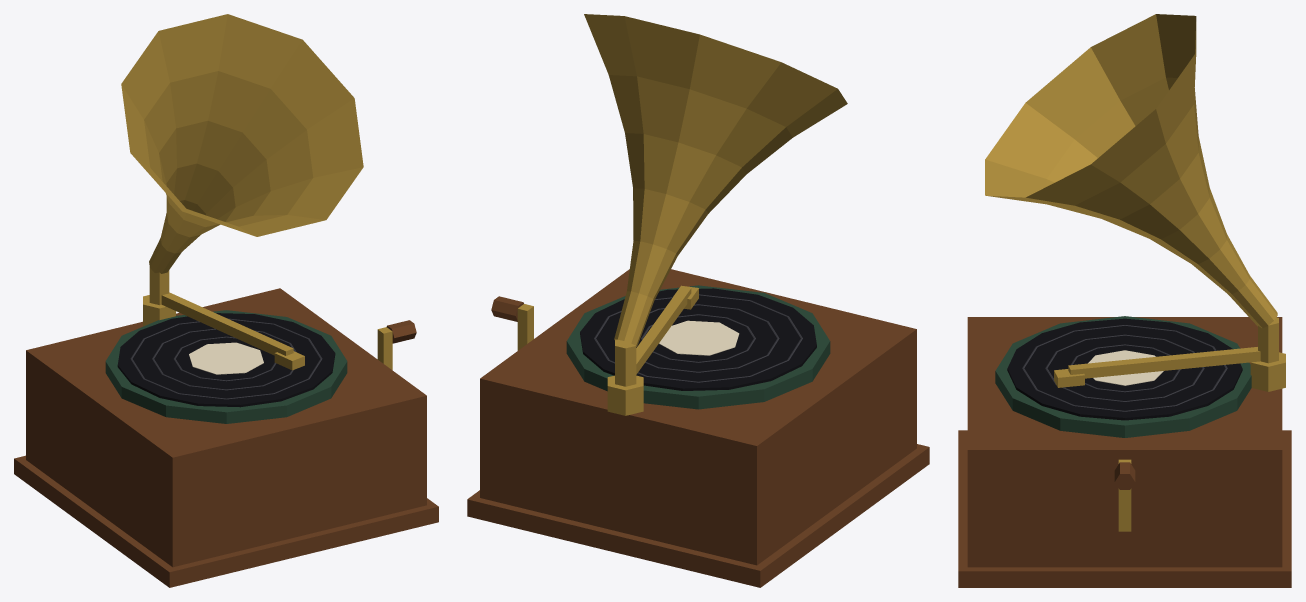
The model's file is Prop_YTM_RecordPlayer_Whole_LOD1.glb.
3 renders of one model, left to right at view 1: azimuth 30°, elevation 25°; view 2: azimuth 150°, elevation 25°; view 3: azimuth 270°, elevation 25°, orthographic. The views are drawn at different scales.
Parts seen in each view (by area): view 1: Prop_YTM_RecordPlayer_Whole, Prop_YTM_RecordPlayer_Whole_Record, Prop_YTM_RecordPlayer_Whole_Crank; view 2: Prop_YTM_RecordPlayer_Whole, Prop_YTM_RecordPlayer_Whole_Record, Prop_YTM_RecordPlayer_Whole_Crank; view 3: Prop_YTM_RecordPlayer_Whole, Prop_YTM_RecordPlayer_Whole_Record, Prop_YTM_RecordPlayer_Whole_Crank.
Boxes of the visible parts, box(x1,y1,x2,y2) form: Prop_YTM_RecordPlayer_Whole: box(14, 14, 438, 587); Prop_YTM_RecordPlayer_Whole_Record: box(117, 313, 335, 407); Prop_YTM_RecordPlayer_Whole_Crank: box(377, 320, 416, 369); Prop_YTM_RecordPlayer_Whole: box(467, 14, 929, 587); Prop_YTM_RecordPlayer_Whole_Record: box(580, 288, 816, 390); Prop_YTM_RecordPlayer_Whole_Crank: box(491, 296, 533, 350); Prop_YTM_RecordPlayer_Whole: box(958, 14, 1291, 587); Prop_YTM_RecordPlayer_Whole_Record: box(1007, 318, 1242, 420); Prop_YTM_RecordPlayer_Whole_Crank: box(1114, 459, 1135, 531).
Size of the model in its own units: 0.428 by 0.5766 by 0.36.
